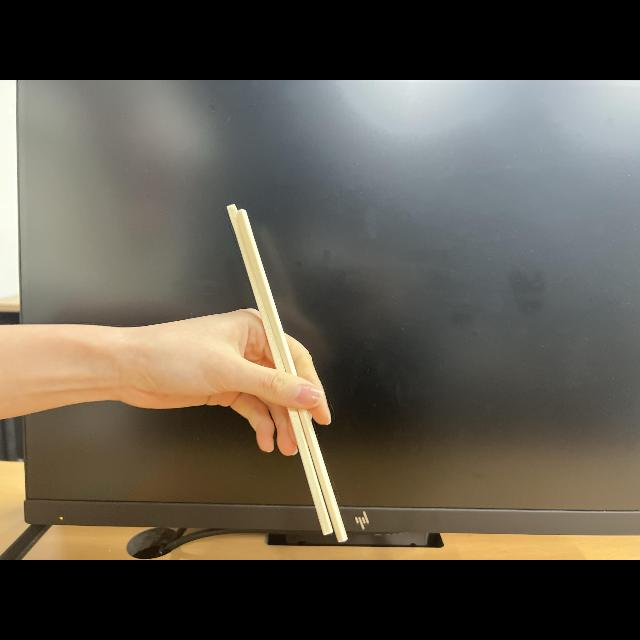stick: (142, 204, 332, 496)
